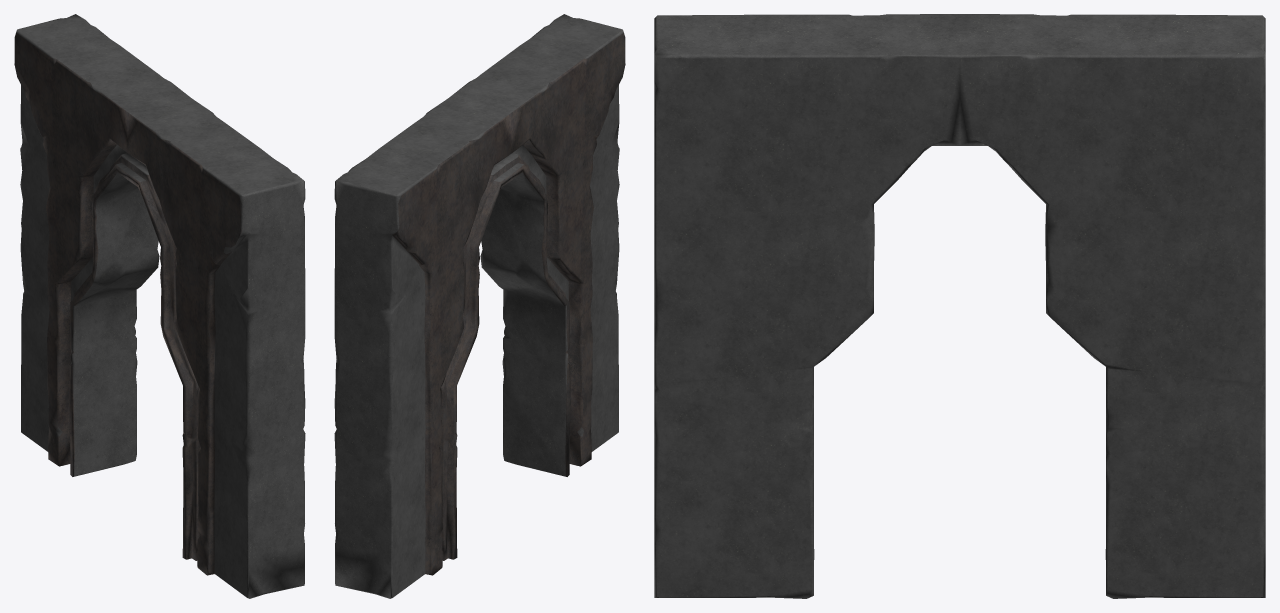
The model's file is SM_BuildingArc.fbx.
The picture shows the model from 3 angles, left to right: view 1: azimuth 30°, elevation 25°; view 2: azimuth 150°, elevation 25°; view 3: azimuth 270°, elevation 25°; orthographic projection. The views are drawn at different scales.
Visible parts, largest first — view 1: SM_BuildingArc_LOD0; view 2: SM_BuildingArc_LOD0; view 3: SM_BuildingArc_LOD0.
Part boxes in pixels (x1,y1,x2,y2): SM_BuildingArc_LOD0: (14,14,305,598); SM_BuildingArc_LOD0: (334,14,625,598); SM_BuildingArc_LOD0: (654,14,1265,598).
Bounding box in the file's own units: 50.23 × 306 × 300.
Materials: 2 (2 with a texture image).
